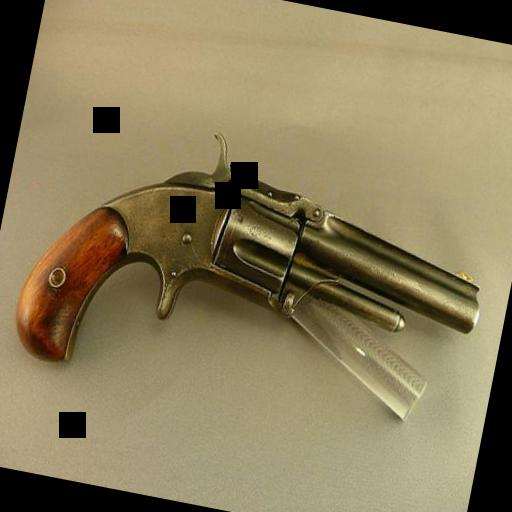Handgun: (6, 97, 503, 440)
